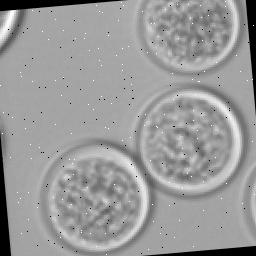picoshell: (38, 142, 152, 256), (130, 86, 243, 199), (135, 0, 242, 77), (238, 161, 256, 245), (0, 11, 23, 54), (0, 122, 4, 163)
